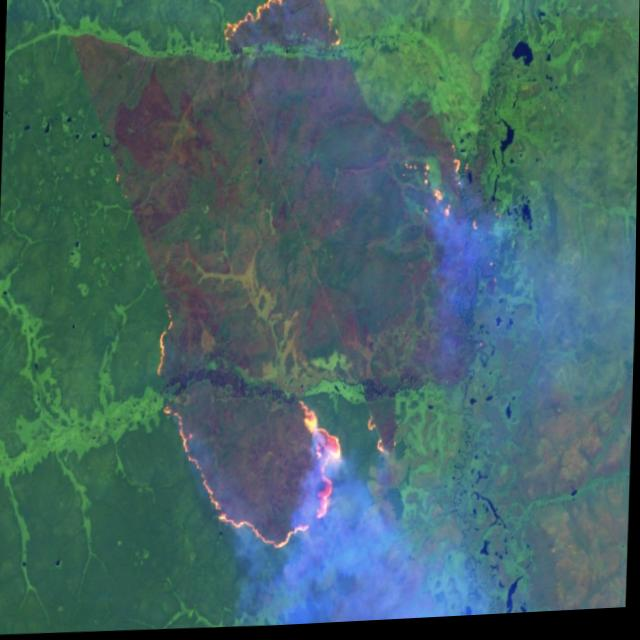fire: (147, 292, 394, 565), (398, 145, 482, 243), (207, 0, 347, 58)
